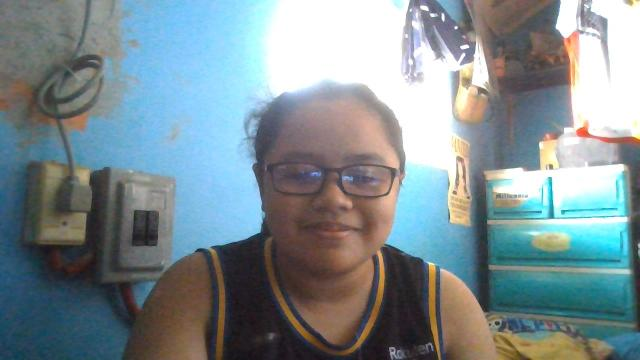senang: (252, 98, 395, 279)
